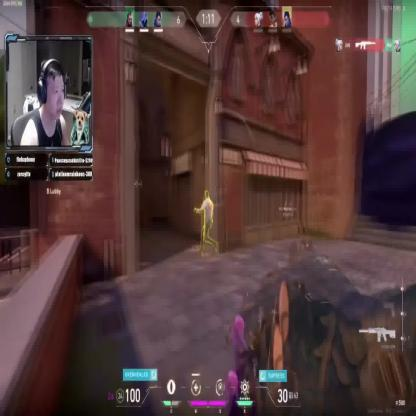enemy: (194, 190, 218, 256)
enemy_head: (204, 190, 210, 201)
